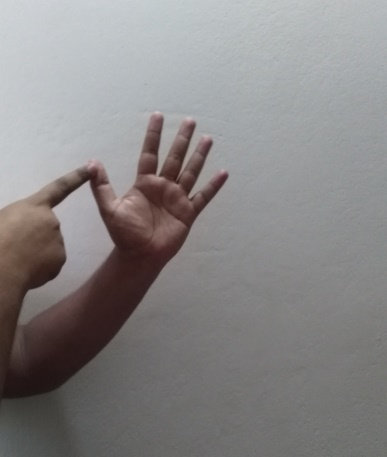a: (15, 111, 231, 270)
